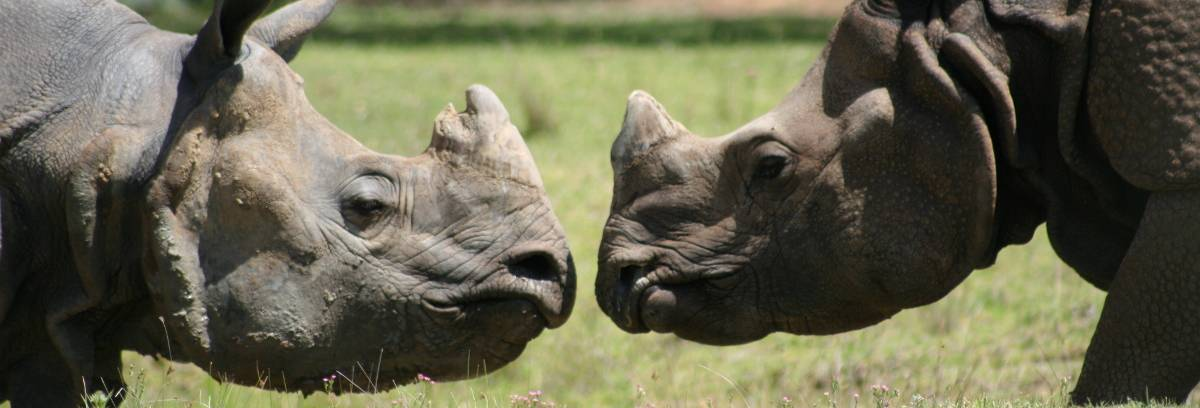rhinoceros: (596, 4, 1200, 406), (1, 9, 577, 400)
